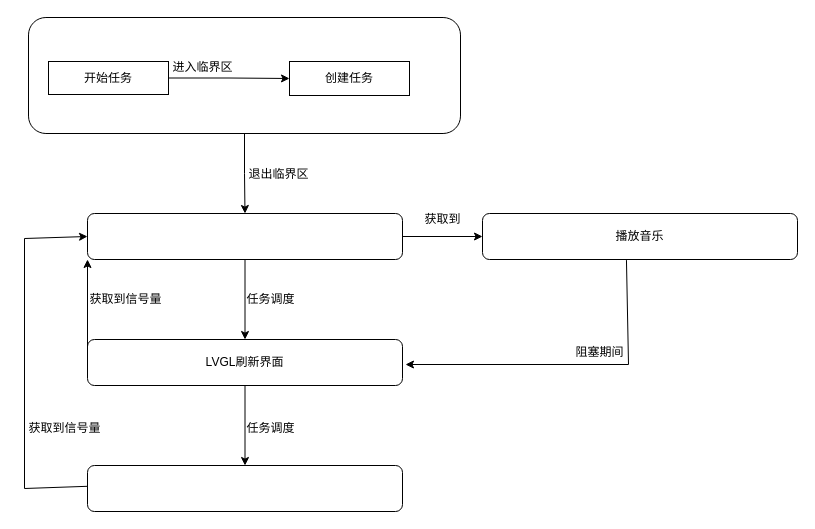
Some shapes in this 815 by 529 pixel diagram are drawn without their labels. Here are the shapes that lost their labels. From the top down, the centre of each, then its label:
(244,236): 获取音频播放信号量
(244,488): WIFI处理数据
